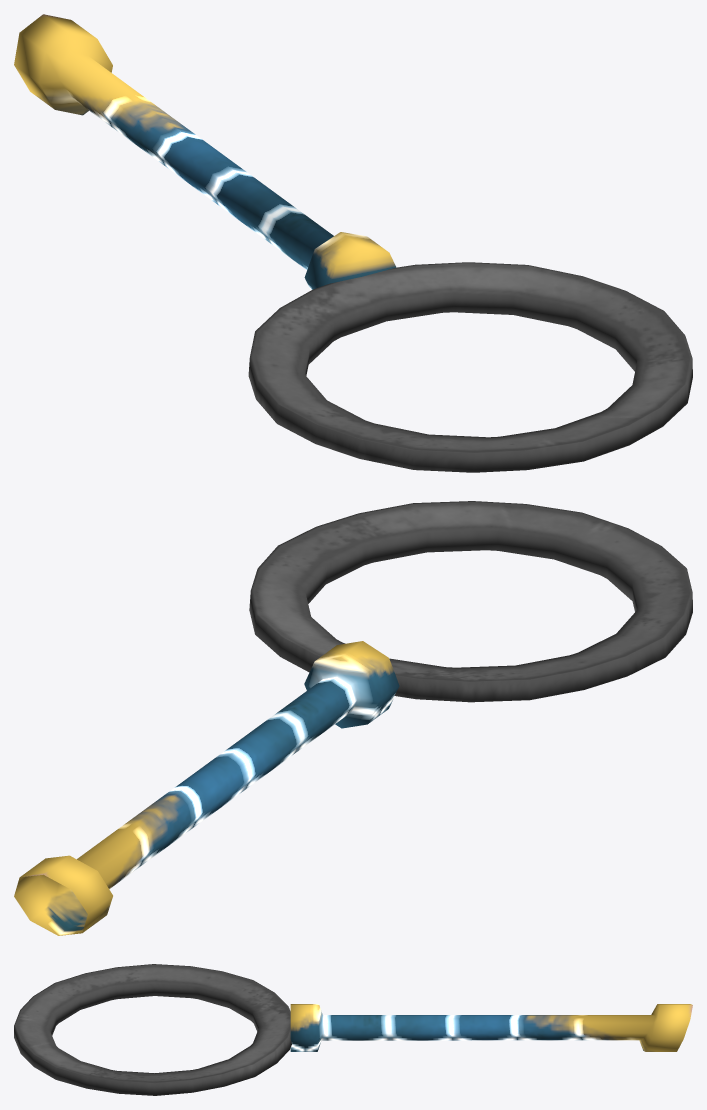
The model's file is Hoop.fbx.
3 views of the same model, one above another, from view 1: azimuth 30°, elevation 25°; view 2: azimuth 150°, elevation 25°; view 3: azimuth 270°, elevation 25° (orthographic). The views are drawn at different scales.
Visible parts, largest first — view 1: Sink_Geo.001_dmg.003; view 2: Sink_Geo.001_dmg.003; view 3: Sink_Geo.001_dmg.003.
Boxes of the visible parts, left/top/right/bottom form: Sink_Geo.001_dmg.003: left=14, top=14, right=692, bottom=472; Sink_Geo.001_dmg.003: left=14, top=501, right=692, bottom=935; Sink_Geo.001_dmg.003: left=14, top=964, right=692, bottom=1095.
Bounding box in the file's own units: 0.15 × 0.3612 × 0.0267.
